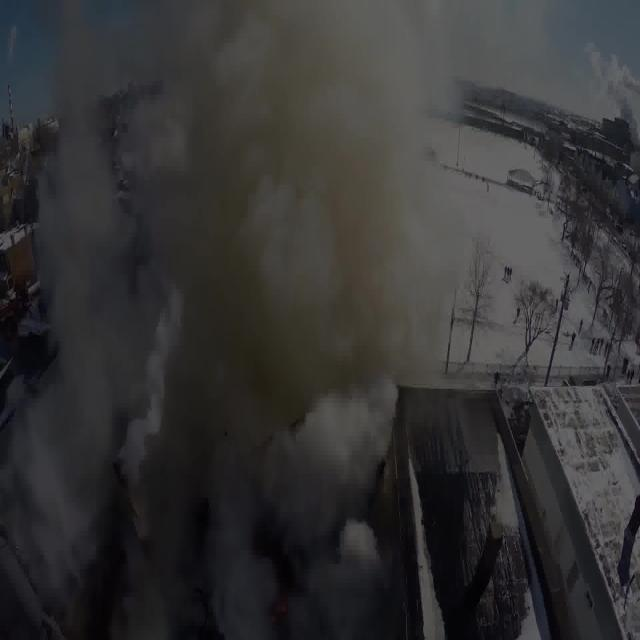Smoke: (2, 0, 485, 636)
